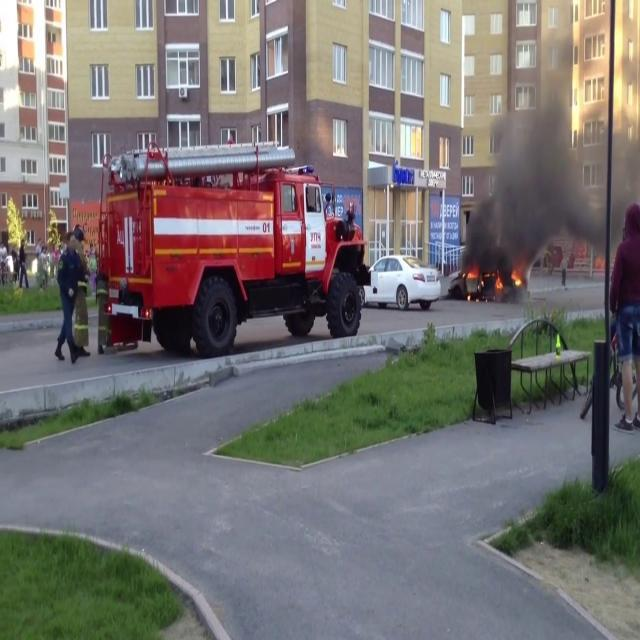Fire: (461, 261, 527, 298)
Smoke: (462, 52, 640, 272)
